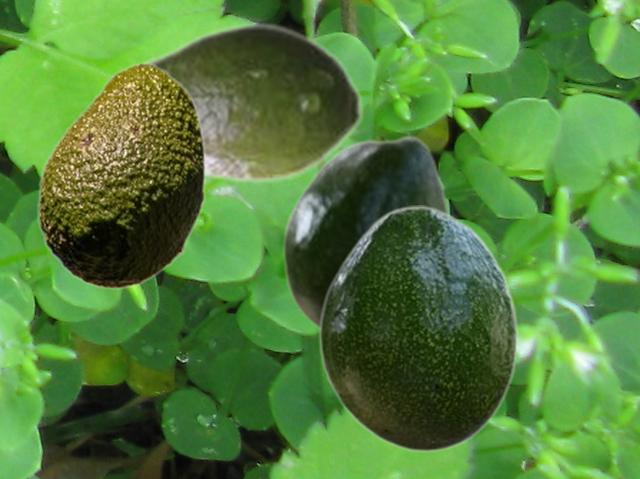avocado: (318, 205, 517, 452), (120, 21, 364, 184), (37, 62, 204, 289), (281, 134, 449, 331)
